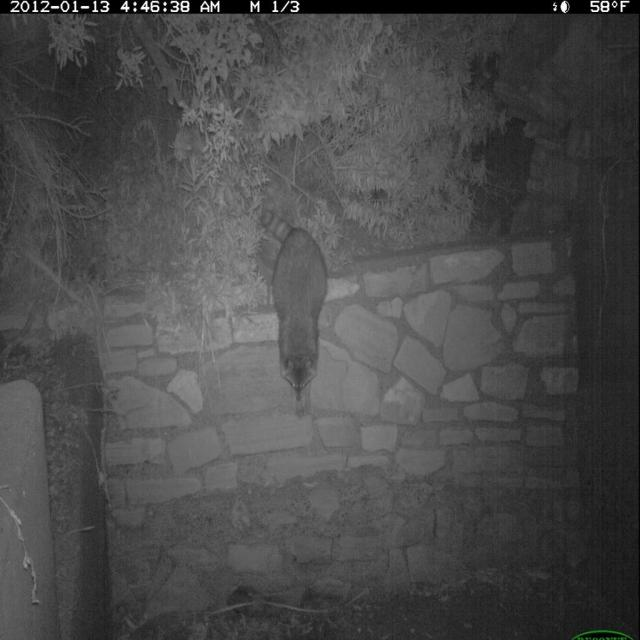raccoon: (256, 203, 333, 425)
